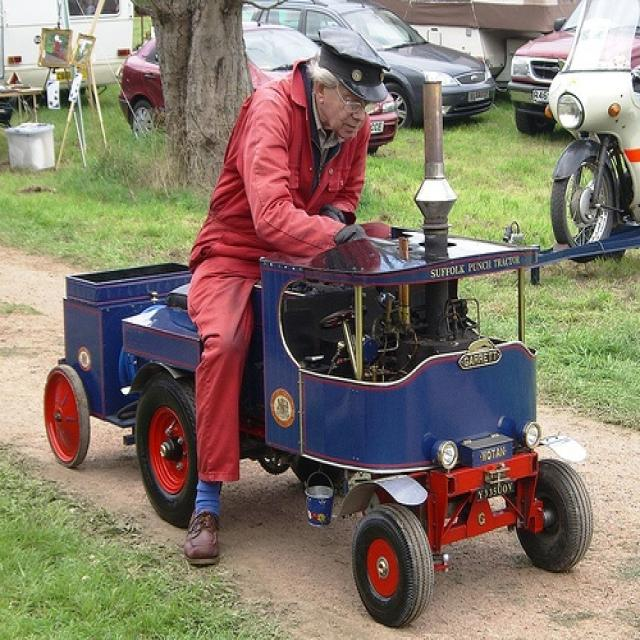car: (121, 21, 398, 154), (247, 1, 499, 122), (513, 1, 639, 136)
motorbike: (545, 1, 640, 266)
person: (178, 20, 398, 573)
